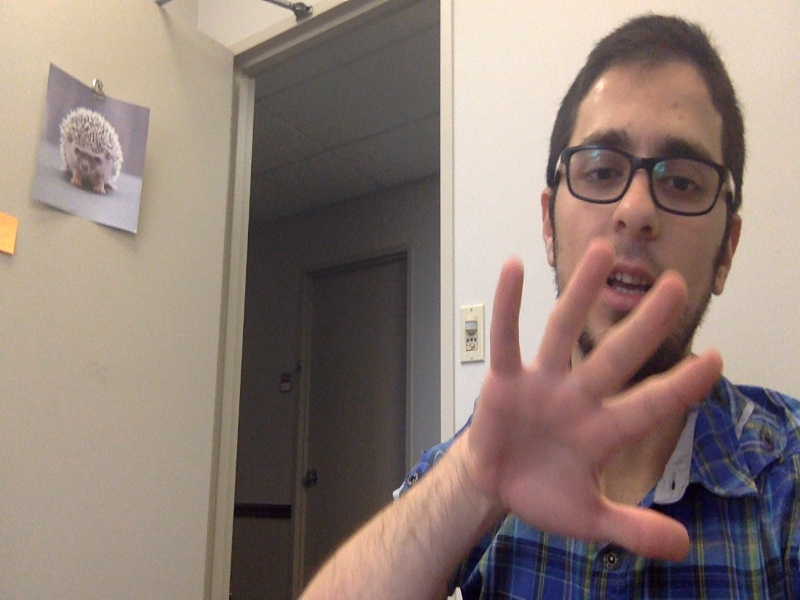5-hand: (473, 243, 724, 563)
